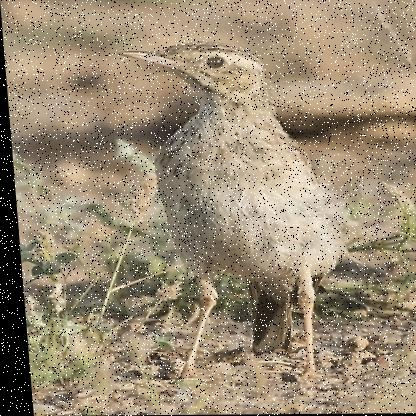Burung: (113, 42, 352, 377)
